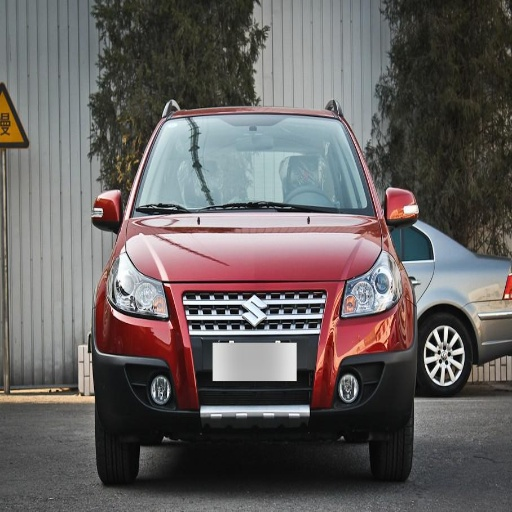front_bumper: (92, 280, 416, 432)
front_right_light: (109, 261, 169, 321)
hood: (124, 212, 384, 281)
left_mirror: (385, 187, 419, 226)
